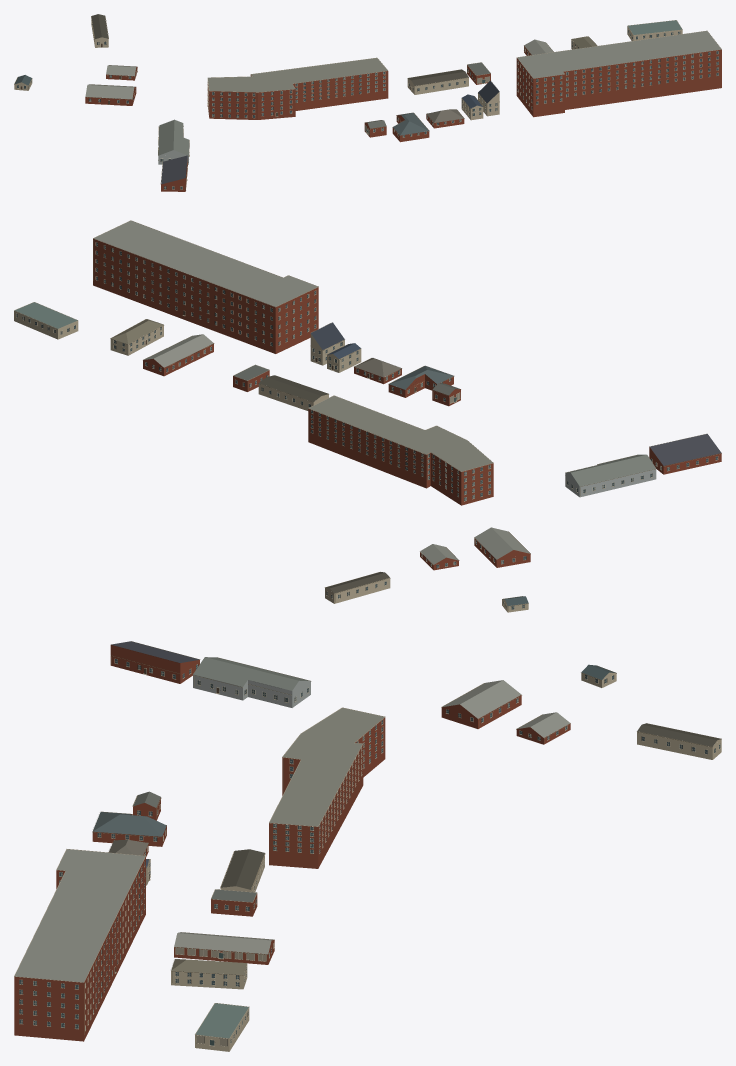
3 renders of one model, top to bottom at view 1: azimuth 30°, elevation 25°; view 2: azimuth 150°, elevation 25°; view 3: azimuth 270°, elevation 25°, orthographic. The views are drawn at different scales.
Parts seen in each view (by area): view 1: -2_-1_318266371_1, -2_-1_318870076_3; view 2: -2_-1_318266371_1, -2_-1_318870076_3, -2_-1_318266410_2; view 3: -2_-1_318266371_1, -2_-1_318870076_3, -2_-1_318266410_2.
Boxes of the visible parts, x1,y1,x2,y2 form: -2_-1_318266371_1: (14, 14, 721, 191); -2_-1_318870076_3: (14, 17, 682, 120); -2_-1_318266371_1: (14, 220, 721, 611); -2_-1_318870076_3: (14, 311, 528, 612); -2_-1_318266410_2: (565, 464, 656, 497); -2_-1_318266371_1: (14, 641, 721, 1046); -2_-1_318870076_3: (146, 672, 721, 1051); -2_-1_318266410_2: (193, 674, 310, 707).
Size of the model in its own units: 351 by 32.8 by 257.
